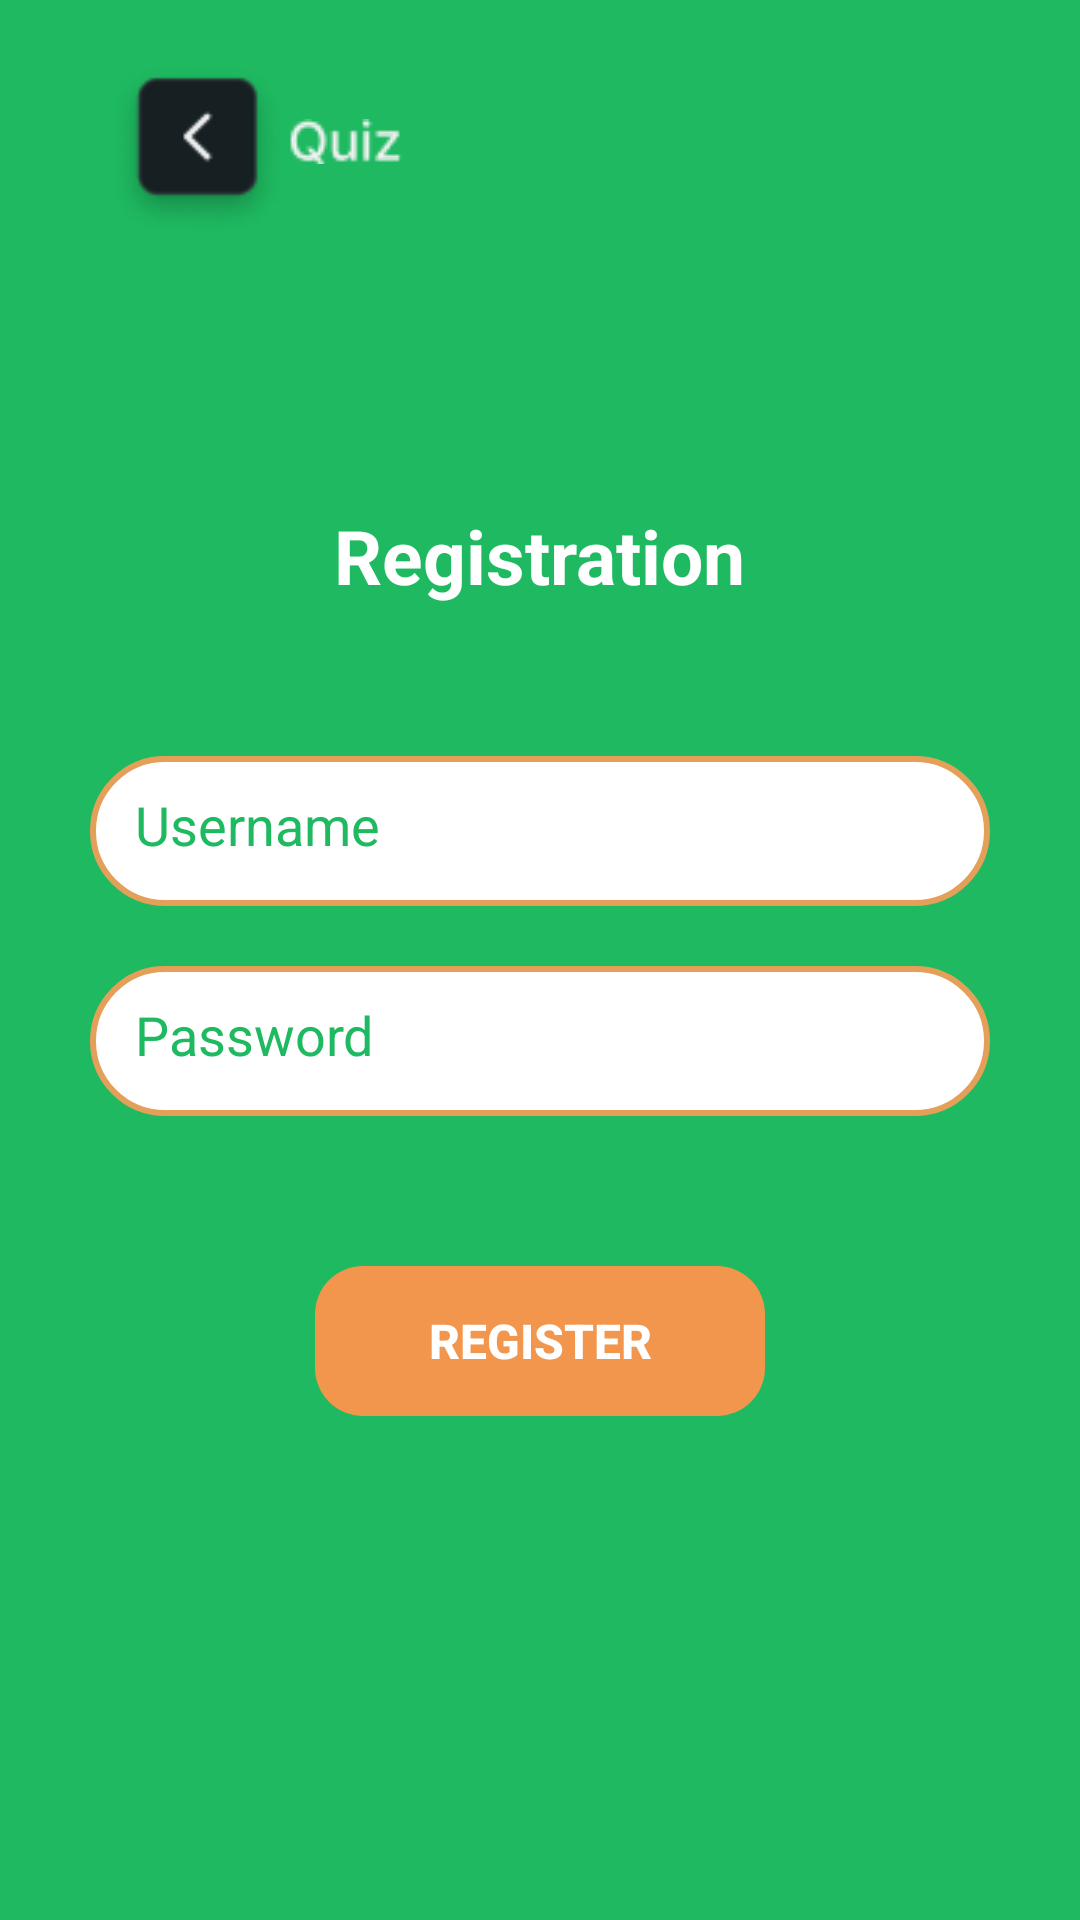

Point at icon controls on the screen. Image size 1080 x 1920, points as point (x, y).
back: point (196, 141)
